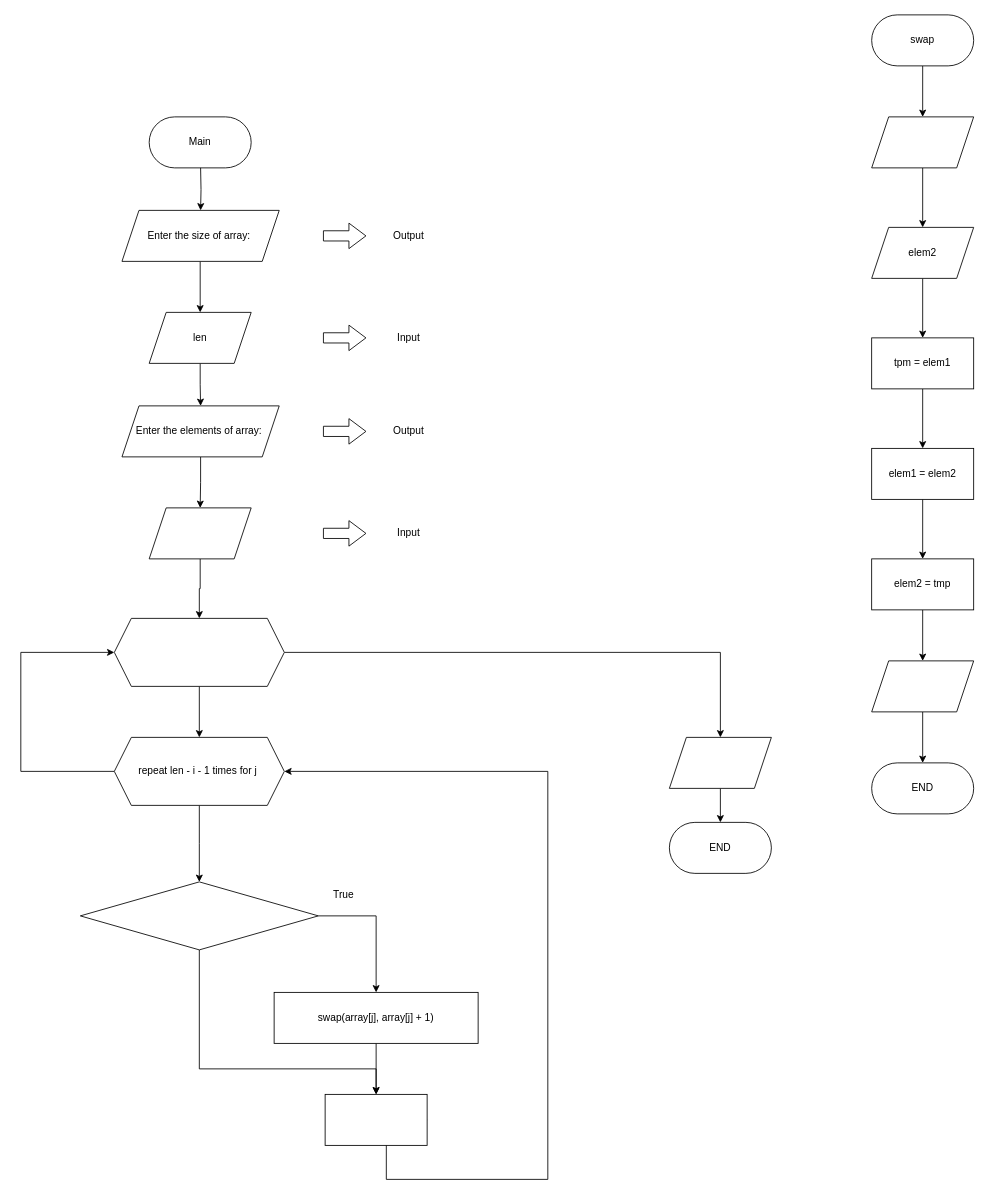
This 989x1201 diagram has some shape labels left out. The centre of each missing label's shape, as x and y in pixels:
array: pixel 199 533
array[j] > array[j] + 1: pixel 198 915
elem1: pixel 922 142
elem1, elem2: pixel 922 686
i = i + 1 j = j + 1: pixel 375 1119
repeat len - 1 times for i: pixel 198 652
sorted array: pixel 720 762
